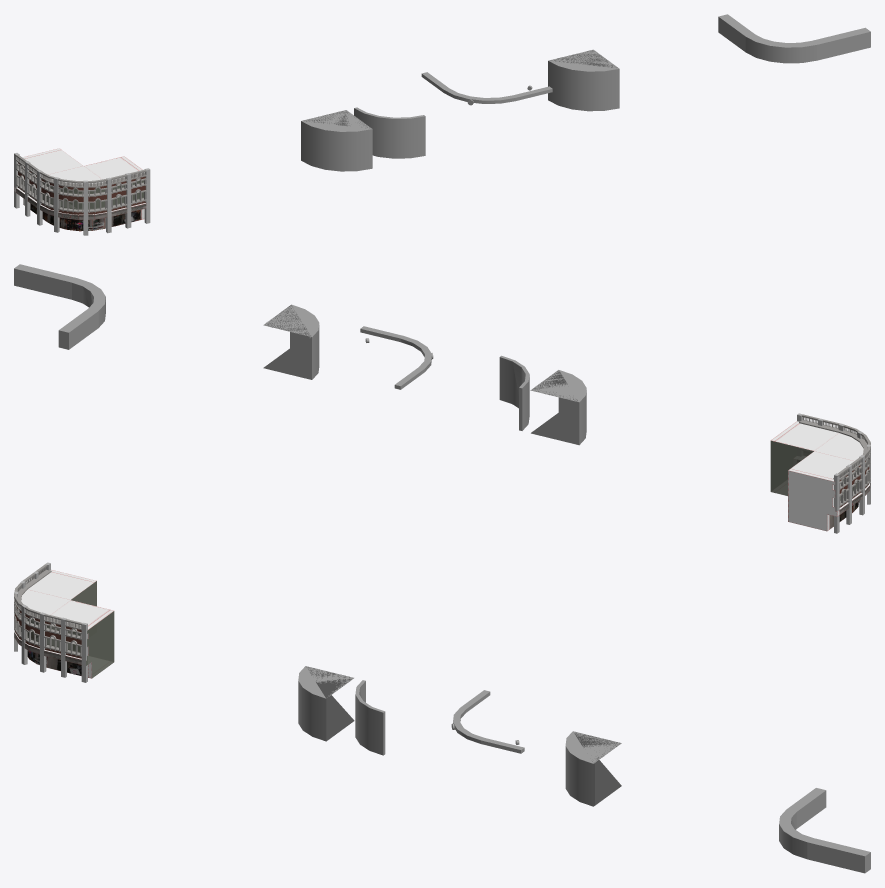
Rendered from 中华城3.fbx.
3 renders of one model, top to bottom at view 1: azimuth 30°, elevation 25°; view 2: azimuth 150°, elevation 25°; view 3: azimuth 330°, elevation 25°, orthographic. The views are drawn at different scales.
Parts seen in each view (by area): view 1: pCylinder226, pCylinder6, pCylinder35, pCylinder13, pCylinder26, pCylinder144, pCylinder36; view 2: pCylinder226, pCylinder13, pCylinder6, pCylinder35, pCylinder26, pCylinder36, pCylinder144; view 3: pCylinder226, pCylinder13, pCylinder6, pCylinder35, pCylinder26, pCylinder144, pCylinder36.
Boxes of the visible parts, x1,y1,x2,y2 form: pCylinder226: (14, 148, 146, 231); pCylinder6: (301, 110, 372, 171); pCylinder35: (548, 49, 619, 111); pCylinder13: (718, 14, 870, 63); pCylinder26: (354, 107, 425, 158); pCylinder144: (421, 72, 552, 103); pCylinder36: (552, 50, 602, 70); pCylinder226: (770, 421, 870, 531); pCylinder13: (14, 264, 105, 349); pCylinder6: (530, 370, 586, 445); pCylinder35: (263, 304, 319, 379); pCylinder26: (499, 355, 529, 430); pCylinder36: (264, 306, 316, 372); pCylinder144: (360, 326, 431, 389); pCylinder226: (14, 569, 114, 678); pCylinder13: (779, 788, 870, 873); pCylinder6: (298, 666, 354, 741); pCylinder35: (565, 731, 621, 806); pCylinder26: (355, 680, 385, 755); pCylinder144: (453, 690, 524, 753); pCylinder36: (568, 734, 621, 805).
Size of the model in its own units: 213 by 13.58 by 24.56.
